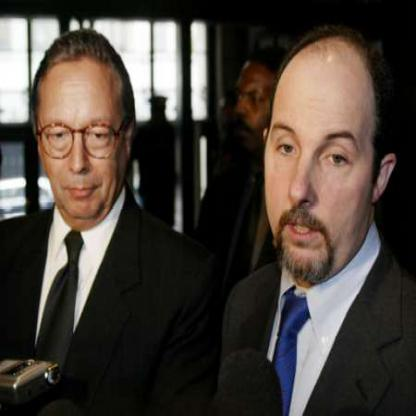face: (267, 30, 383, 281), (40, 41, 129, 222), (230, 50, 282, 155)
